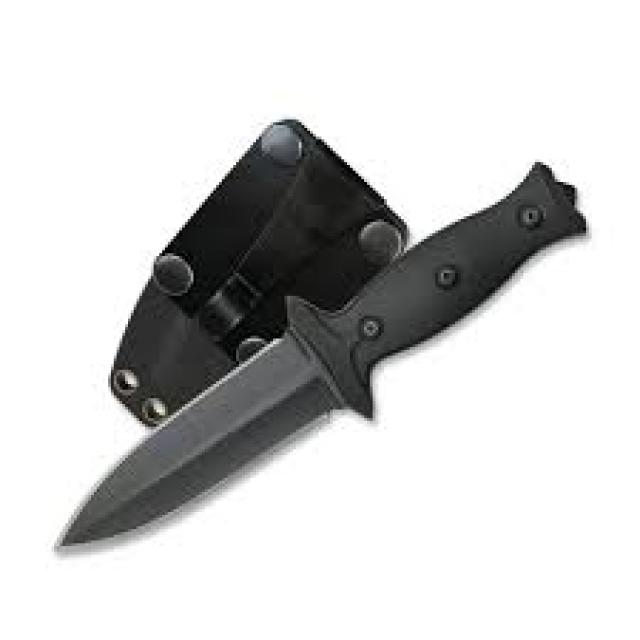knives: (48, 120, 594, 558)
